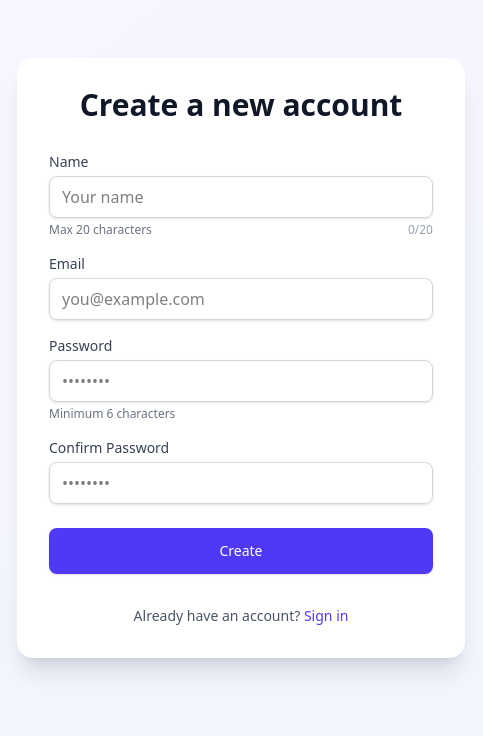
Test: Signup Component › should show error when password is too short
Type "John Doe" into the field labelled "Name".
click(241, 197); type("John Doe")  # box [49,176,433,218]
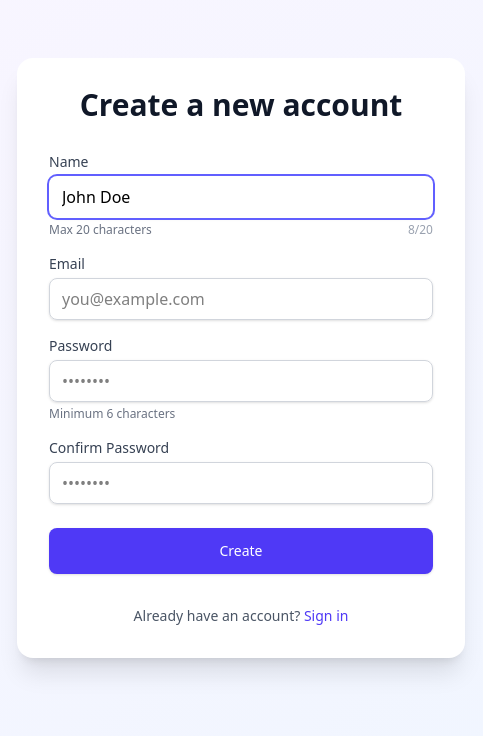
Type "john@example.com" into the field labelled "Email".
click(241, 299); type("john@example.com")  # box [49,278,433,320]
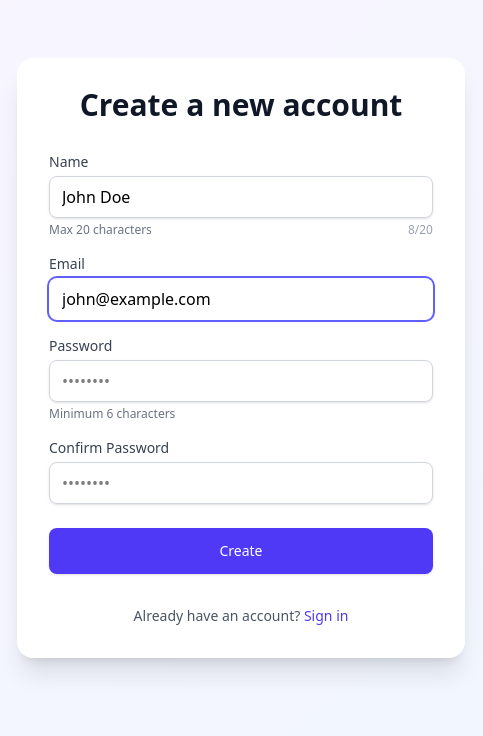
Type "12345" into the password field labelled "Password".
click(241, 381); type("12345")  # box [49,360,433,402]
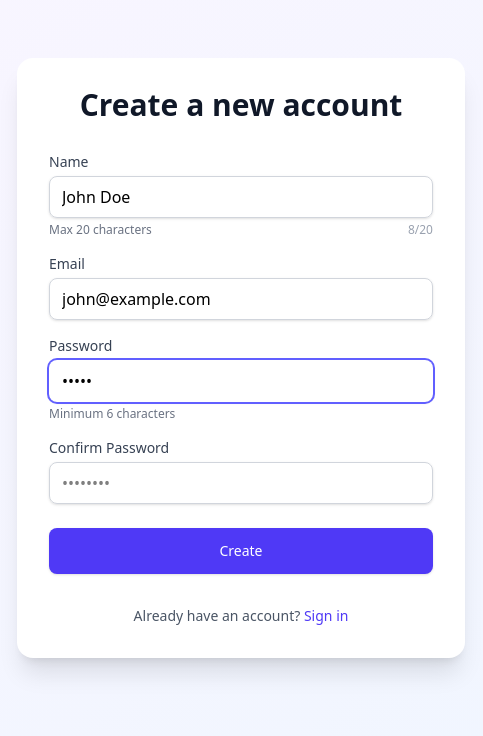
Type "12345" into the password field labelled "Confirm Password".
click(241, 483); type("12345")  # box [49,462,433,504]
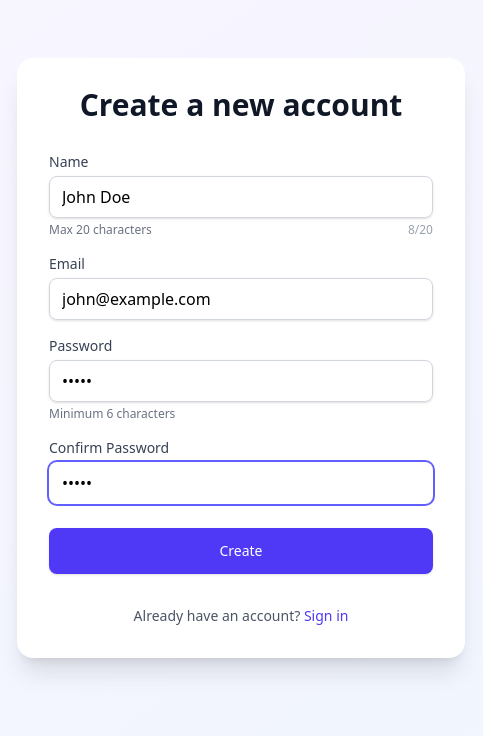
Click the button "Create".
click(241, 551)  # box [49,528,433,574]
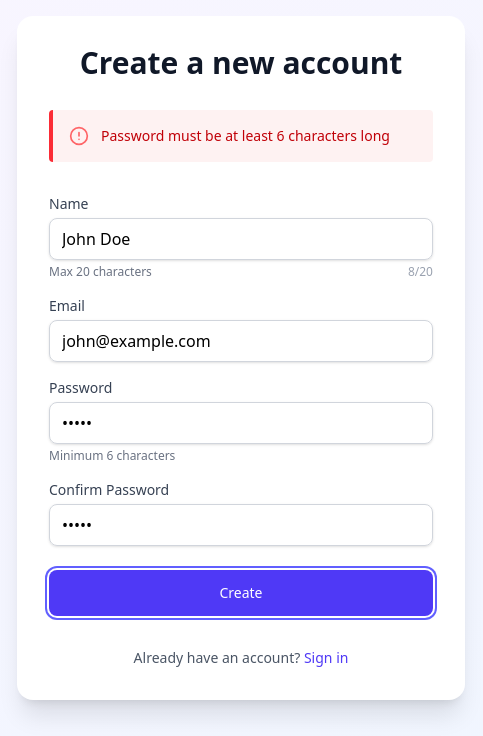
Check: the text "Password must be at least 6 characters long" is shown, box [101,126,390,146]
